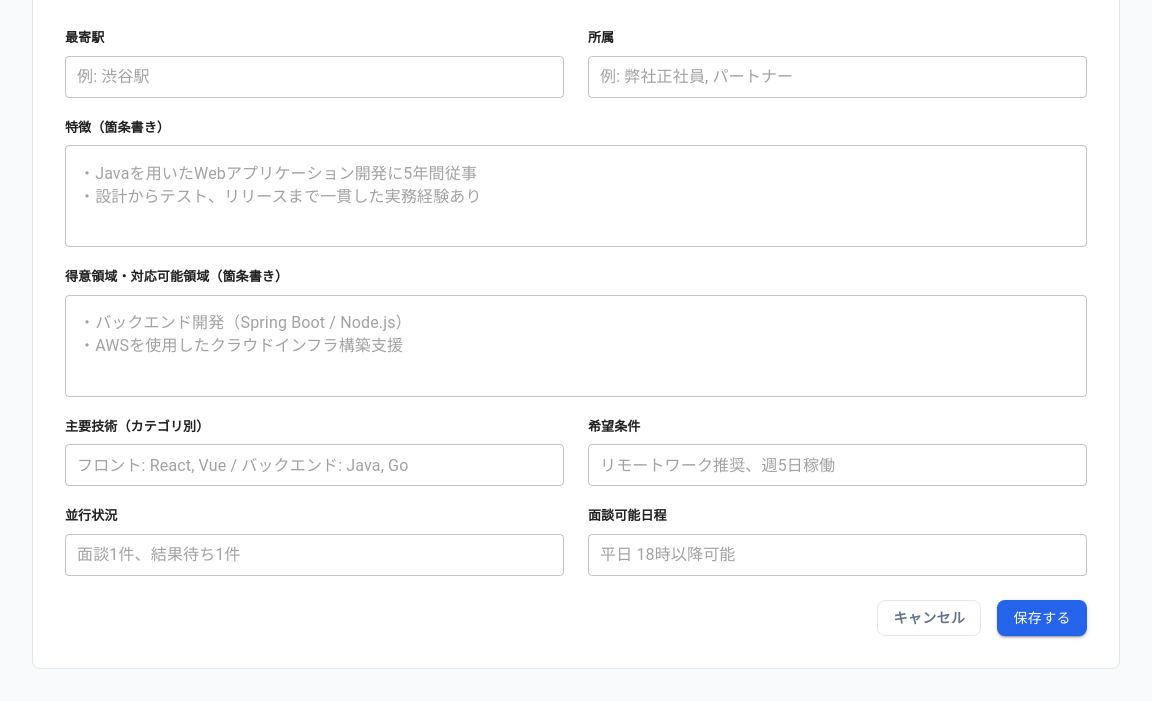
SummaryForm › 必須項目が未入力の場合はエラーメッセージが表示される
(page scrolled)
Click the button "保存する". click: (1042, 618)
box: left=997, top=600, right=1087, bottom=636
(page scrolled)
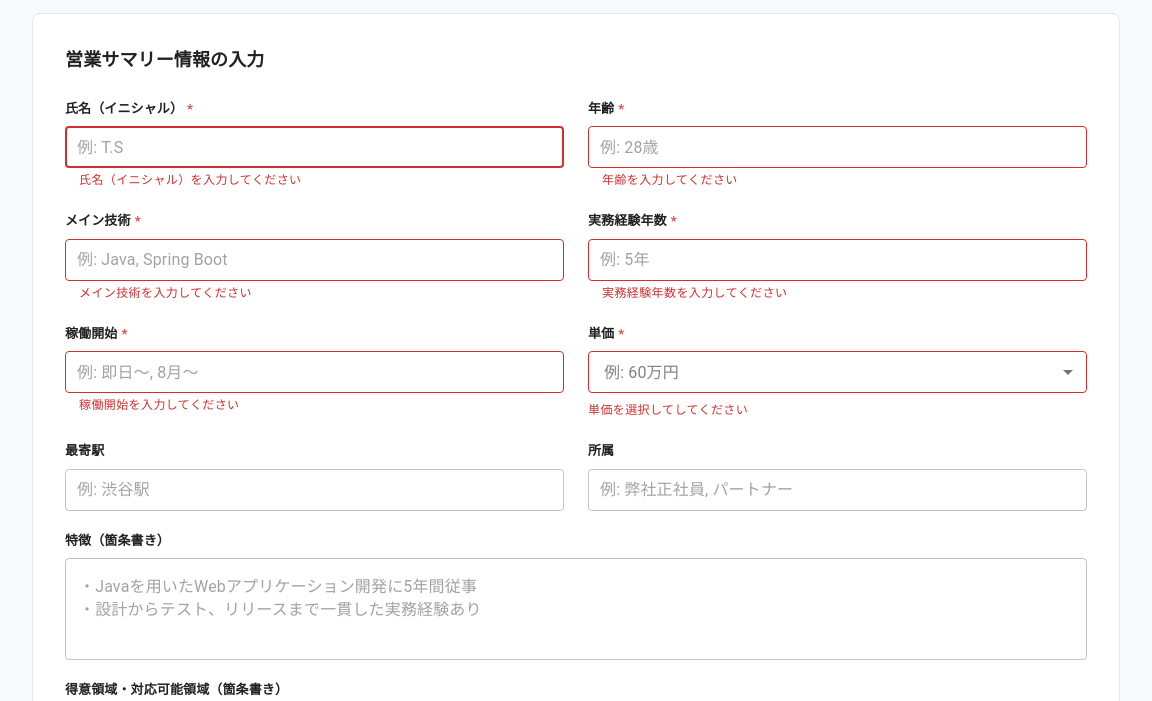
Now the text "氏名（イニシャル）を入力してください" is shown, box left=79, top=173, right=302, bottom=187
Now the text "年齢を入力してください" is shown, box left=602, top=173, right=738, bottom=187
Now the text "メイン技術を入力してください" is shown, box left=79, top=286, right=252, bottom=300
